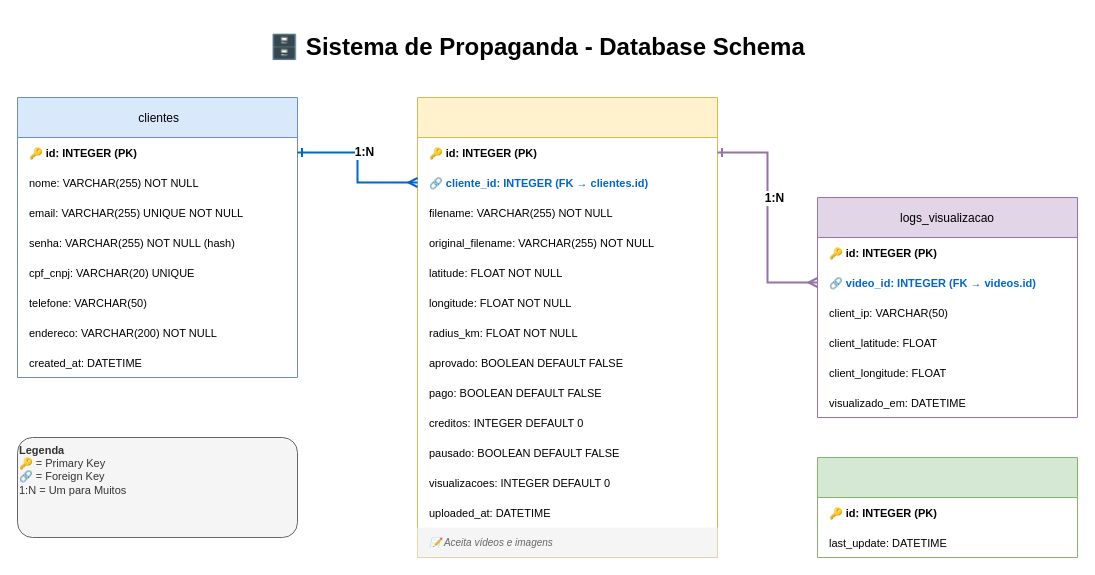
Image size: 1095x575. Some labels were removed from this diagram. Here are the shapes that lost their labels. From the top down, the box of each, then its label:
(416, 96, 718, 558): videos
(816, 456, 1078, 558): system_status
